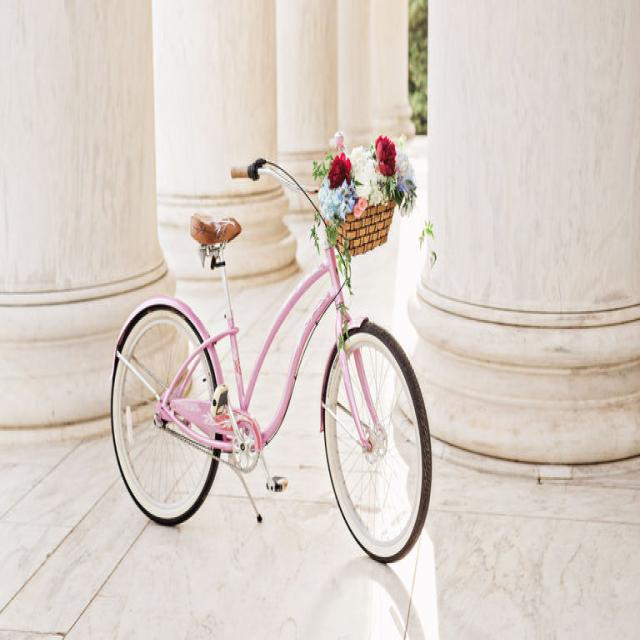urban-bike: (108, 147, 435, 564)
